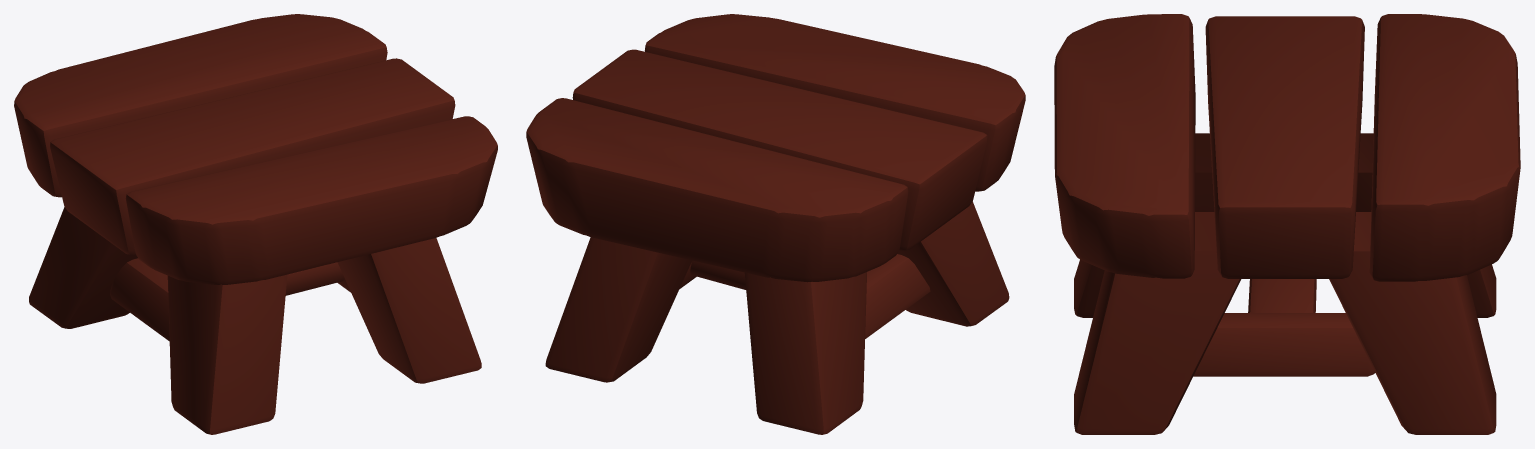
The model's file is stool.obj.
3 renders of one model, left to right at view 1: azimuth 30°, elevation 25°; view 2: azimuth 150°, elevation 25°; view 3: azimuth 270°, elevation 25°, orthographic. The views are drawn at different scales.
Visible parts, largest first — view 1: stool_Cube.2856; view 2: stool_Cube.2856; view 3: stool_Cube.2856.
Part boxes in pixels (box(x1,y1,x2,y2)): stool_Cube.2856: box(14, 14, 497, 434); stool_Cube.2856: box(526, 14, 1025, 434); stool_Cube.2856: box(1054, 14, 1520, 434).
Size of the model in its own units: 0.7466 by 0.4556 by 0.7531.
